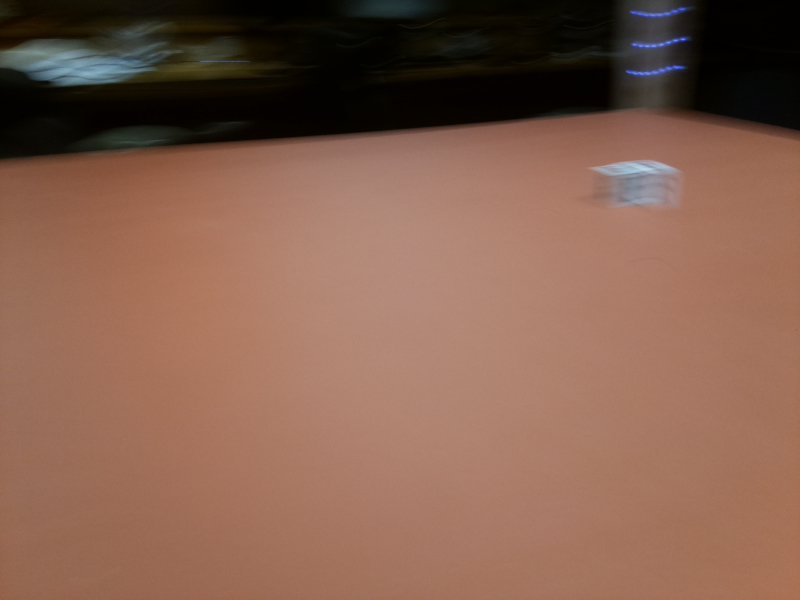blockF: (591, 159, 678, 205)
corner: (613, 1, 695, 112)
